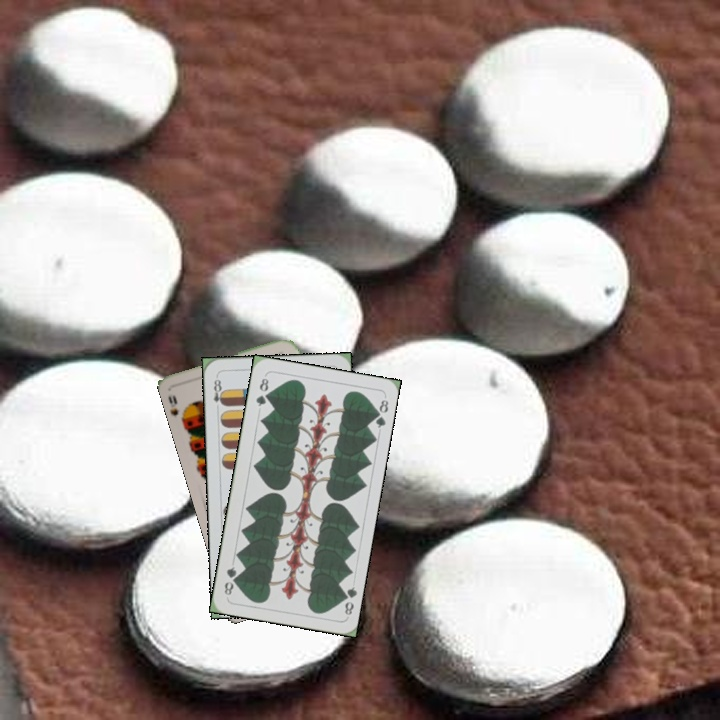E8: (209, 372, 227, 408)
G8: (337, 583, 359, 617), (252, 374, 271, 409)
S9: (168, 391, 188, 425)
